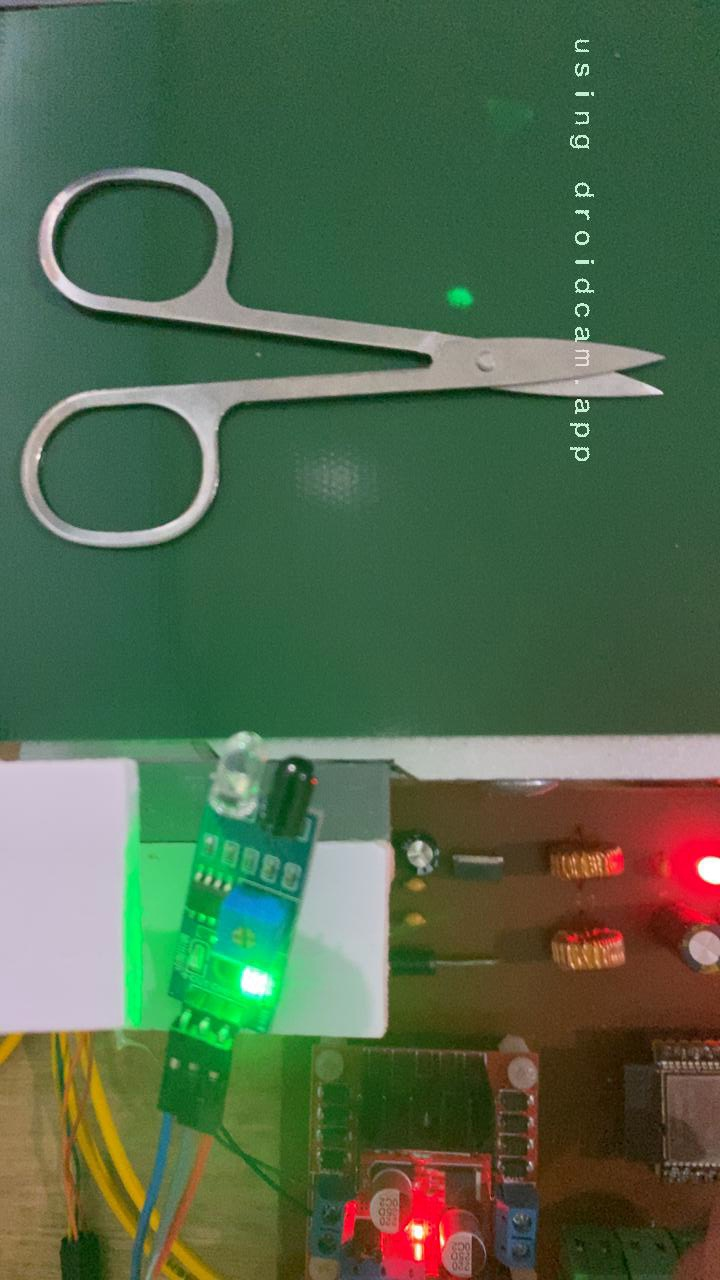scissor: (13, 161, 672, 556)
